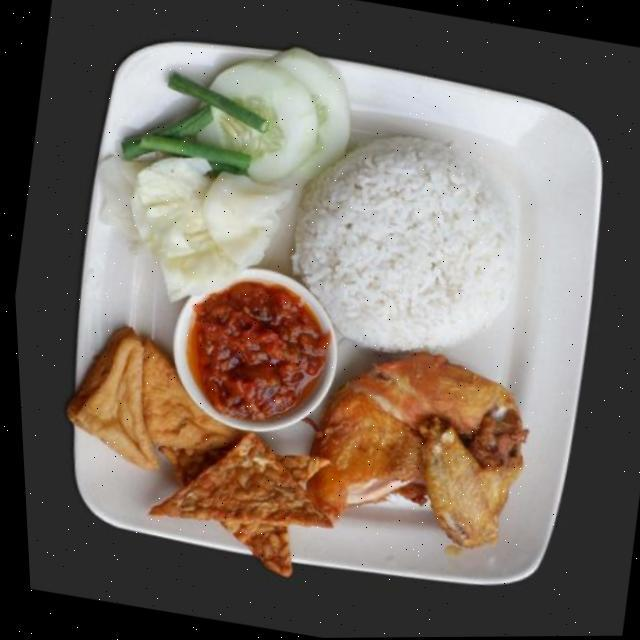ayam goreng: (300, 340, 542, 555)
nasi: (274, 110, 548, 369)
sambal: (175, 263, 342, 431)
tahu goreng: (61, 322, 266, 488)
tempe goreng: (137, 413, 353, 593)
